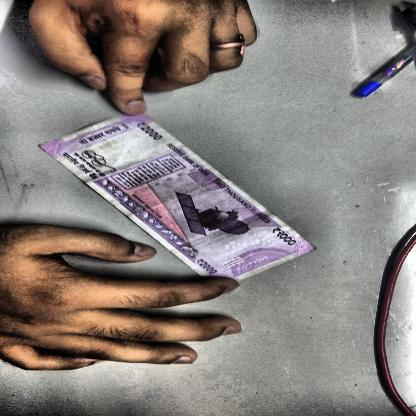Rs2000: (130, 119, 168, 143), (192, 257, 221, 276)
